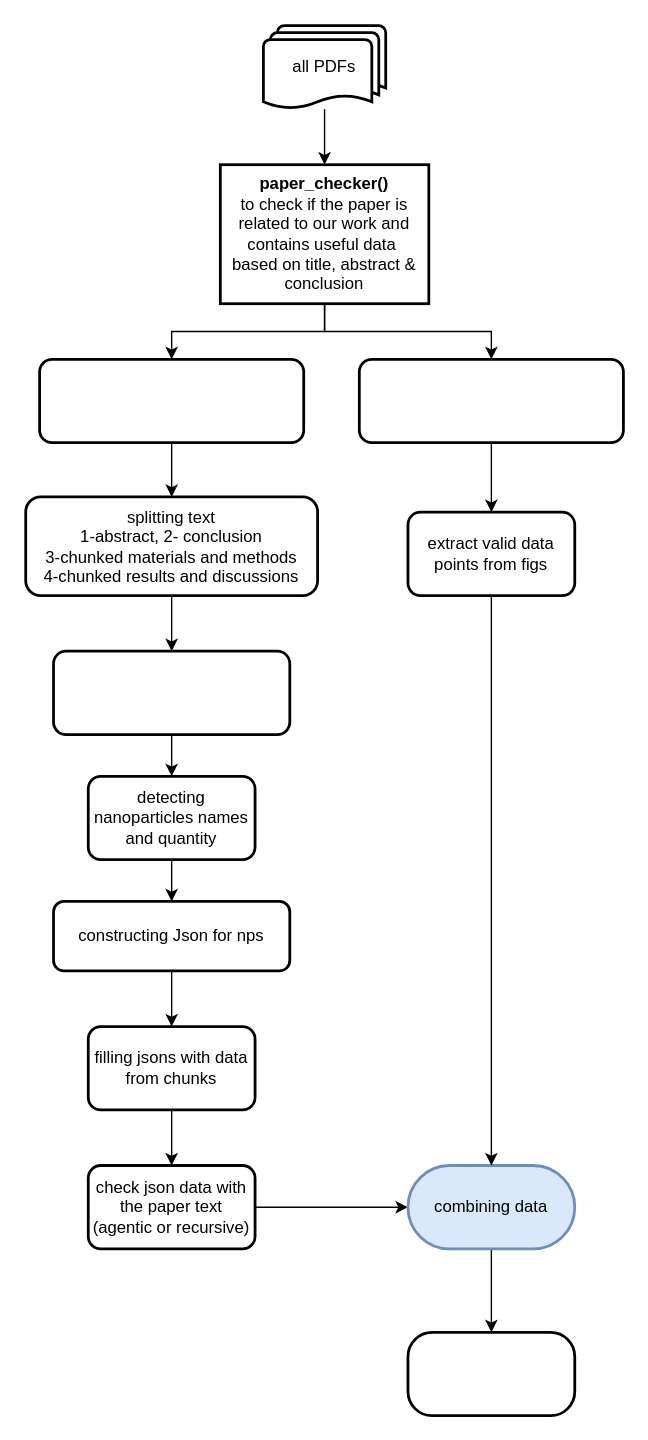
This 648x1440 diagram has some shape labels left out. The centre of each missing label's shape, as x and y in pixels:
"adding context to each chunk" belongs at (171,692).
"extract figures" belongs at (490,400).
"inserting data to dataset" belongs at (490,1373).
"remove irrelevant data: introduction, references, paper metadata" belongs at (171,400).
